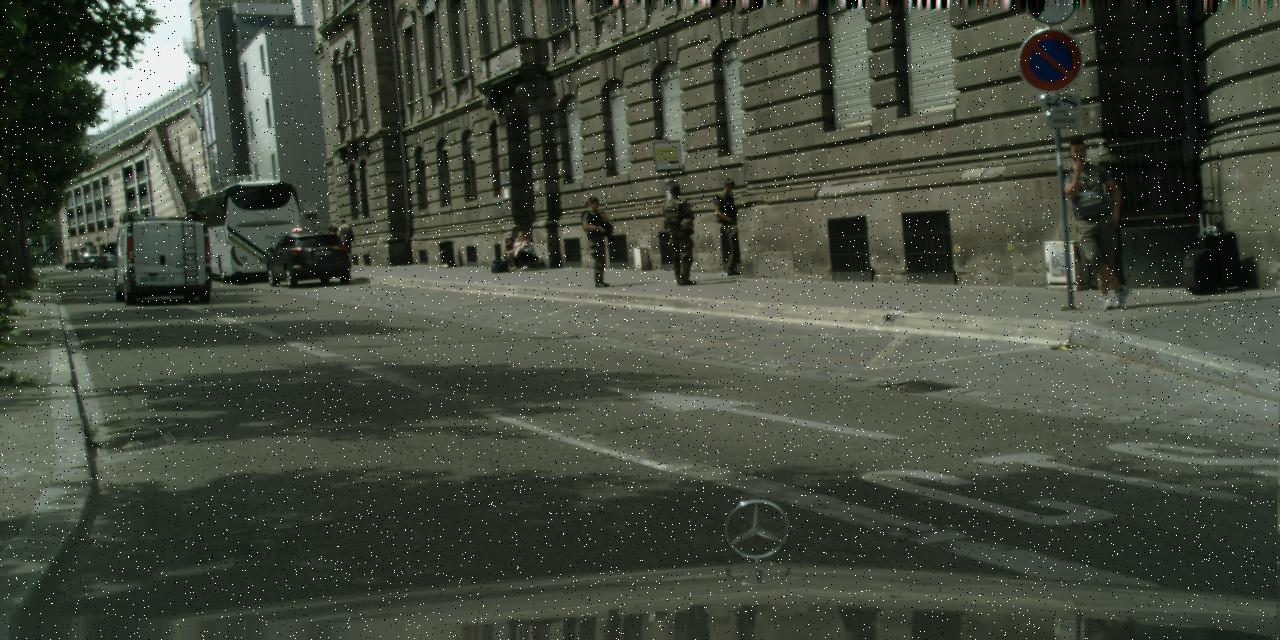ped: (1061, 139, 1130, 309), (660, 184, 701, 286), (710, 178, 750, 276), (577, 196, 614, 288), (336, 219, 354, 264), (326, 223, 341, 262)
